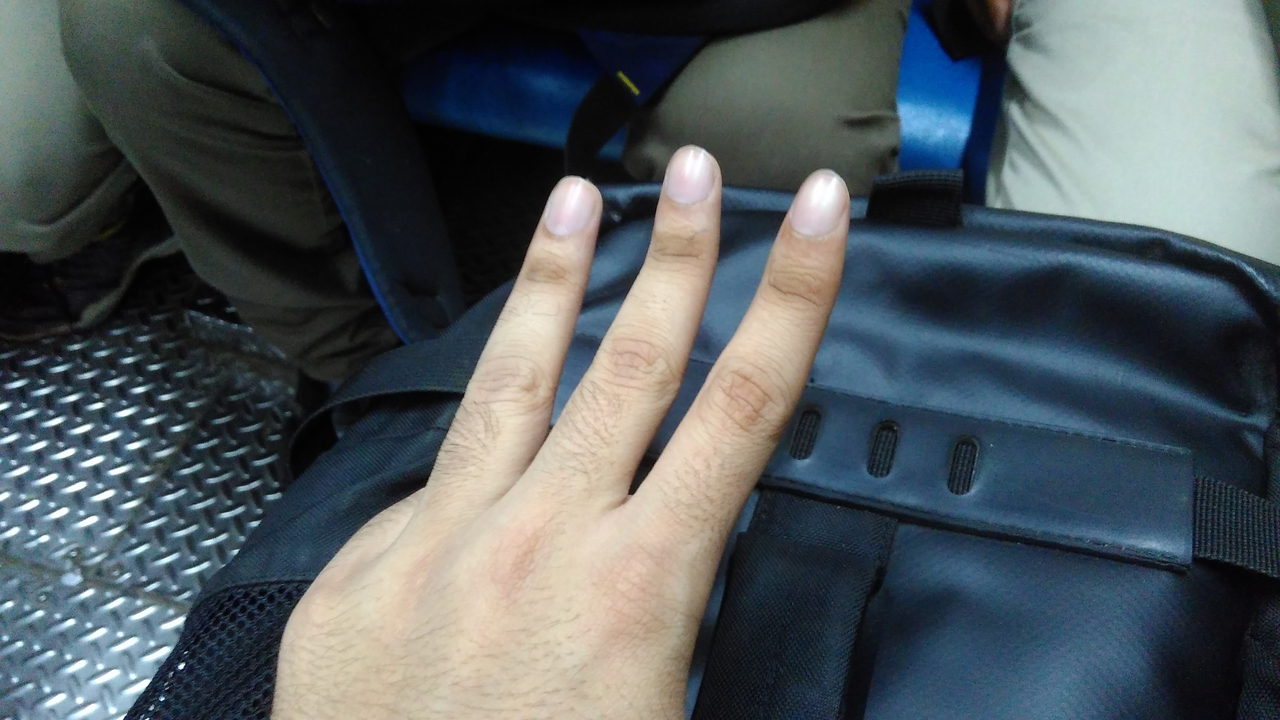fingertip: (778, 160, 858, 236), (534, 170, 604, 244), (656, 138, 728, 208)
